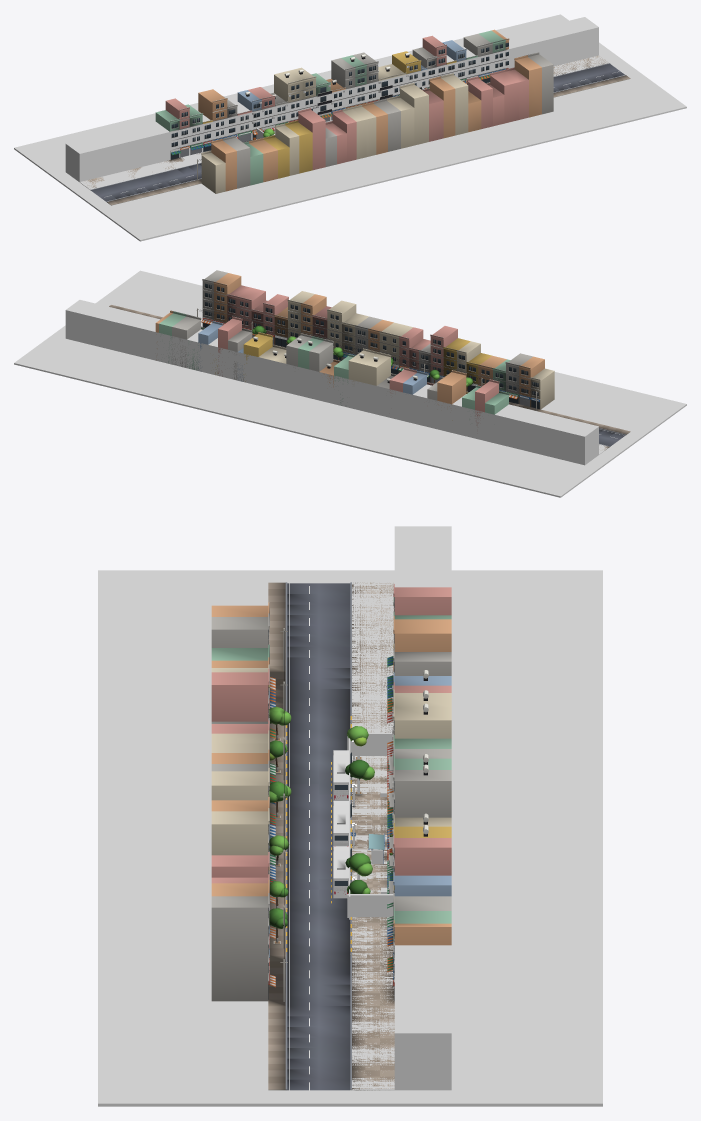
File: zone_00_pickup.glb
The picture shows the model from 3 angles, top to bottom: view 1: azimuth 30°, elevation 25°; view 2: azimuth 150°, elevation 25°; view 3: azimuth 270°, elevation 25°; orthographic projection. The views are drawn at different scales.
Visible parts, largest first — view 1: ENV_nha_pho_xa, COL_ground, COL_nha_bac, ENV_nha_pho, ENV_ground, COL_via_he_bac, ENV_bo_via; view 2: COL_ground, ENV_nha_pho_xa, COL_nha_bac, ENV_nha_pho, ENV_ground, ENV_vegetation; view 3: COL_ground, ENV_ground, ENV_nha_pho_xa, COL_via_he_bac, COL_nha_bac, ENV_nha_pho, ENV_vegetation, ENV_bo_via, COL_bien_dong.
Boxes of the visible parts, x1,y1,x2,y2 form: ENV_nha_pho_xa: (155, 29, 553, 193); COL_ground: (14, 14, 686, 241); COL_nha_bac: (65, 17, 598, 181); ENV_nha_pho: (237, 51, 427, 139); ENV_ground: (80, 55, 630, 205); COL_via_he_bac: (79, 55, 609, 190); ENV_bo_via: (90, 63, 625, 201); COL_ground: (14, 270, 686, 497); ENV_nha_pho_xa: (155, 270, 554, 425); COL_nha_bac: (65, 300, 598, 465); ENV_nha_pho: (237, 332, 427, 405); ENV_ground: (109, 305, 630, 450); ENV_vegetation: (252, 325, 473, 391); COL_ground: (98, 570, 602, 1106); ENV_ground: (268, 582, 394, 1090); ENV_nha_pho_xa: (211, 584, 451, 1001); COL_via_he_bac: (350, 582, 394, 1090); COL_nha_bac: (394, 526, 451, 1090); ENV_nha_pho: (387, 670, 451, 908); ENV_vegetation: (269, 706, 374, 944); ENV_bo_via: (285, 582, 351, 1090); COL_bien_dong: (347, 894, 393, 917).
Size of the model in its own units: 200 by 18.28 by 80.
